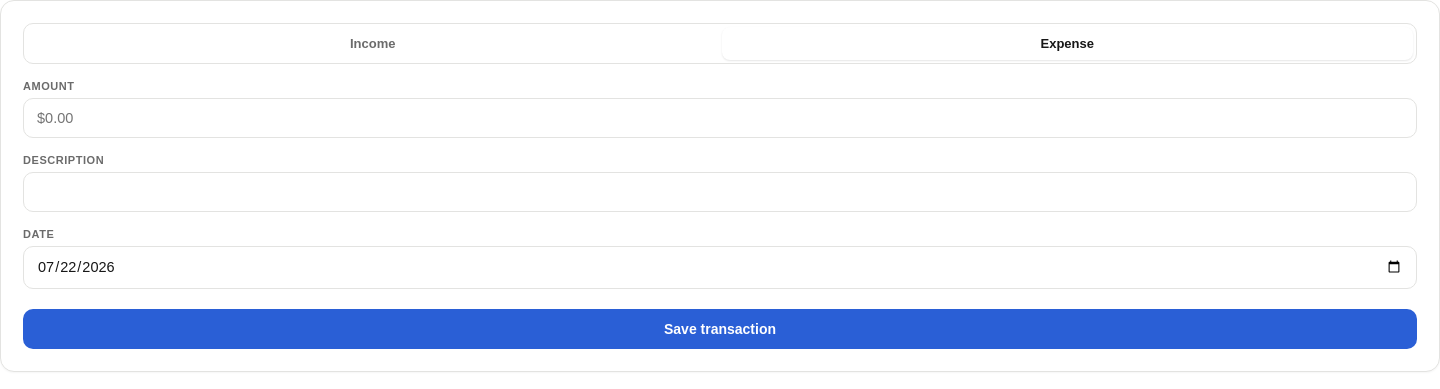
Test: AddTransactionForm › saves a valid transaction and resets the form
This screenshot has width=1440, height=389.
Click the button "Income" at (373, 44), box [27,27,718,60]
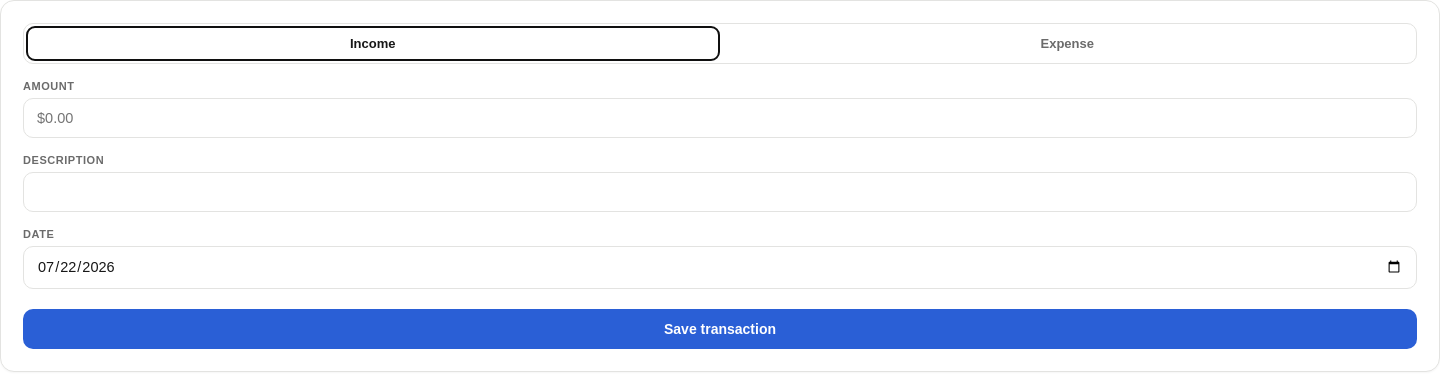
Type "3200" into the number field labelled "Amount" at (720, 118), box [23,98,1417,138]
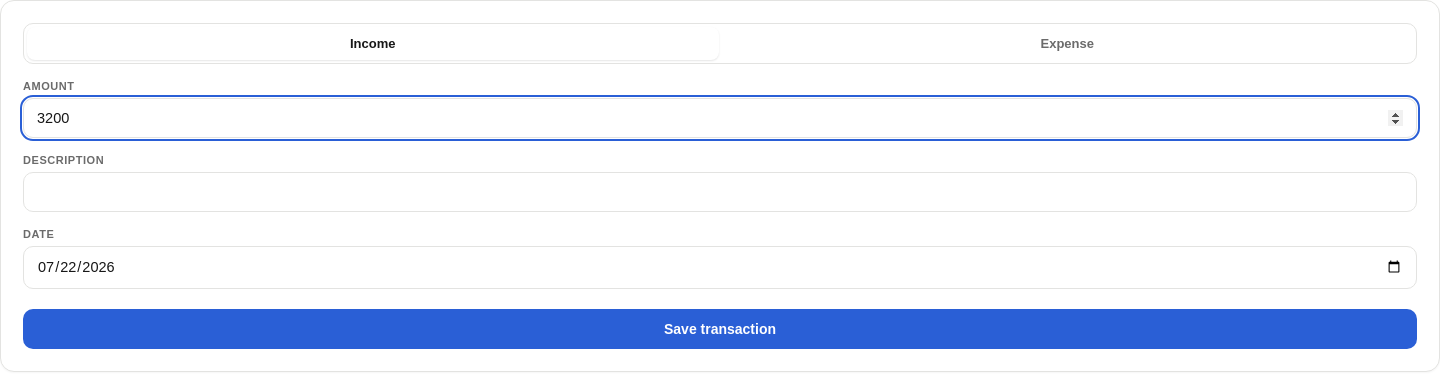
Type "Paycheck" into the field labelled "Description" at (720, 192), box [23,172,1417,212]
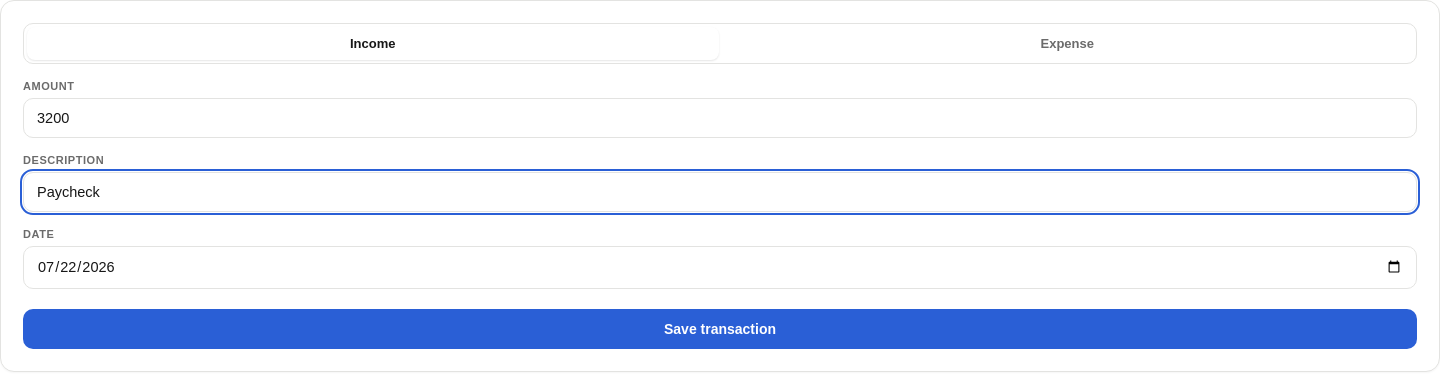
Click the button "Save transaction" at (720, 328), box [23,308,1417,348]
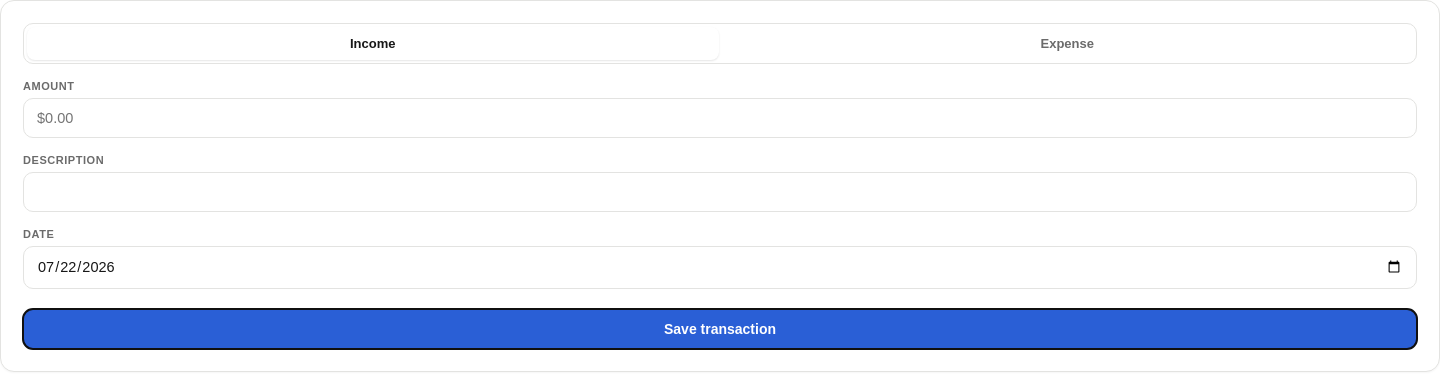
Expected: the number field labelled "Amount" is not empty, [23,98,1417,138]
Expected: the field labelled "Description" is empty, [23,172,1417,212]
